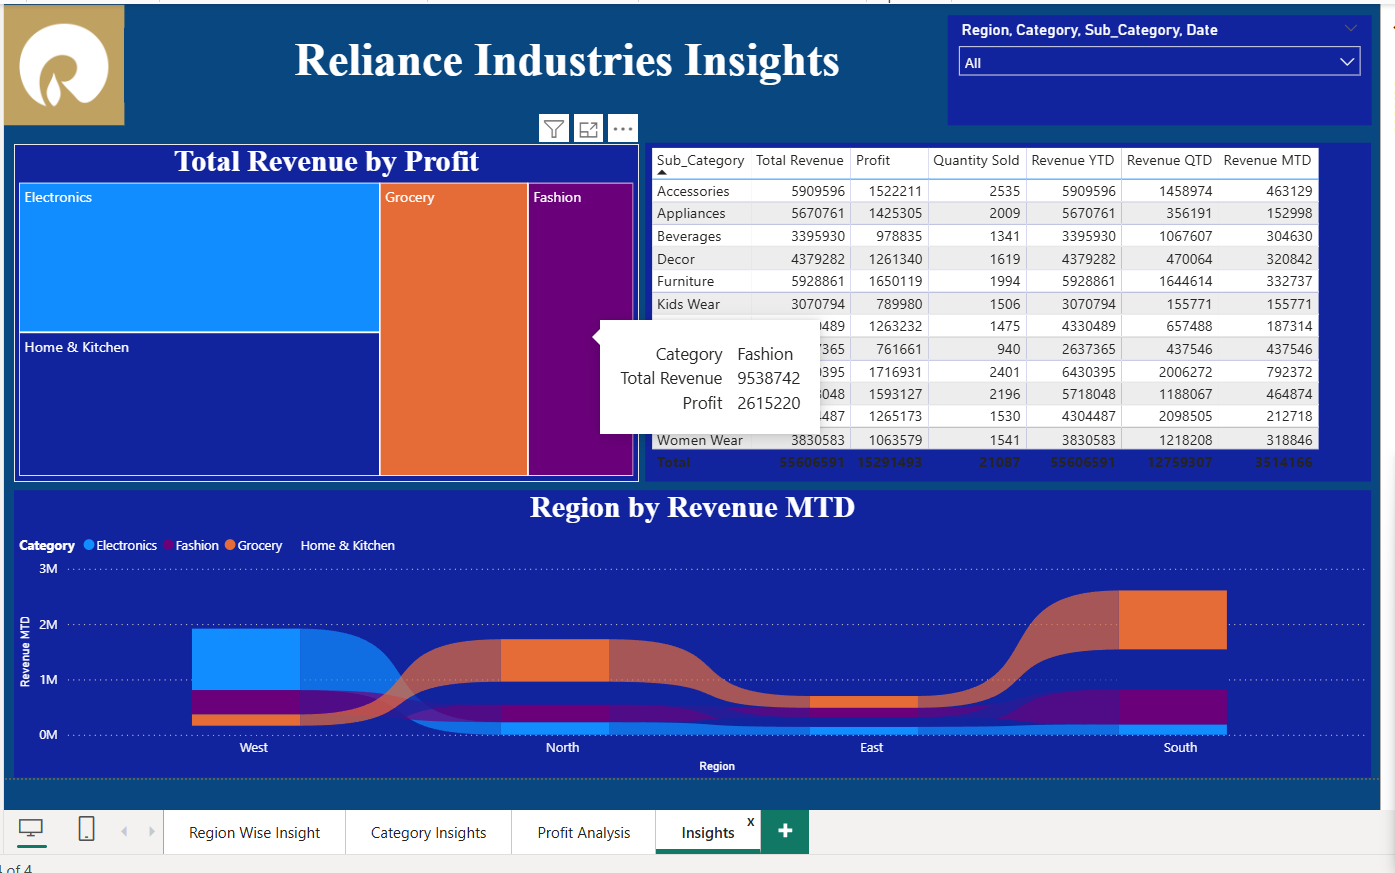

The dashboard page shown, as its layout file describes it:
{"tool":"powerbi","page":{"name":"Insights","canvas":[1280,720],"ordinal":3},"visuals":[{"type":"image","box":[0,0,111.7,113.1],"z":0},{"type":"textbox","box":[111.1,22,824.7,70],"z":1000},{"type":"treemap","title":"Total Revenue by Profit","fields":{"Group":["Sales_Data.Category"],"Values":["Sales_Data.Total Revenue"]},"box":[9.3,130.2,581.4,314],"z":2000},{"type":"ribbonChart","title":"Region by Revenue MTD","fields":{"Category":["Sales_Data.Region"],"Series":["Sales_Data.Category"],"Y":["Sales_Data.Revenue MTD"]},"box":[9.3,452.3,1262.8,267.4],"z":3000},{"type":"tableEx","title":"Top Sub Categories","fields":{"Values":["Sales_Data.Sub_Category","Sales_Data.Total Revenue","Sales_Data.Profit","Sales_Data.Quantity Sold","Sales_Data.Revenue YTD","Sales_Data.Revenue QTD","Sales_Data.Revenue MTD"]},"box":[596.5,129.1,675.6,315.1],"z":4000},{"type":"slicer","title":"Top 10 Sub Categories by Revenue","fields":{"Values":["Sales_Data.Region","Sales_Data.Category","Sales_Data.Sub_Category","Sales_Data.Date"]},"box":[877.9,10.5,394.2,102.3],"z":5000}]}

Visuals, with their boxes on the page's 1280x720 design canvas (x1, y1, x2, y2). These are canvas units, not pixel positions in the 1395x873 screenshot, which may show the page scaled, cropped or inside an application window:
image: {"left": 0, "top": 0, "right": 112, "bottom": 113}
textbox: {"left": 111, "top": 22, "right": 936, "bottom": 92}
"Total Revenue by Profit" treemap: {"left": 9, "top": 130, "right": 591, "bottom": 444}
"Region by Revenue MTD" ribbonChart: {"left": 9, "top": 452, "right": 1272, "bottom": 720}
"Top Sub Categories" tableEx: {"left": 596, "top": 129, "right": 1272, "bottom": 444}
"Top 10 Sub Categories by Revenue" slicer: {"left": 878, "top": 10, "right": 1272, "bottom": 113}
